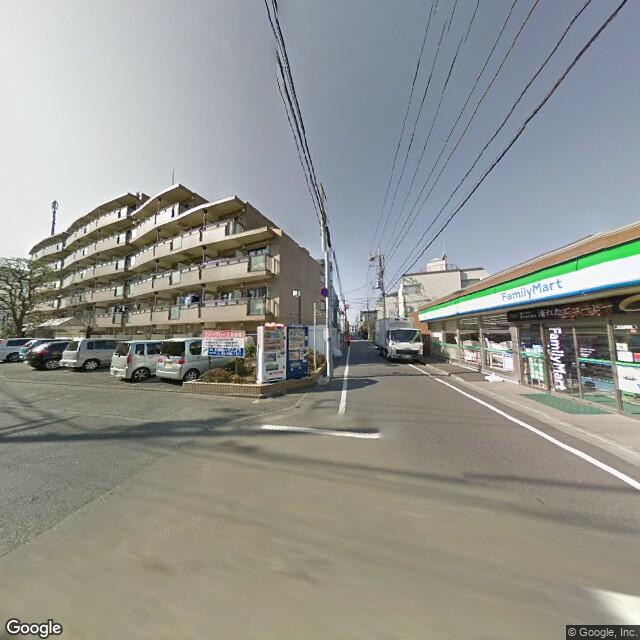family_mart: (417, 232, 638, 326), (499, 272, 568, 303), (545, 322, 567, 391)
